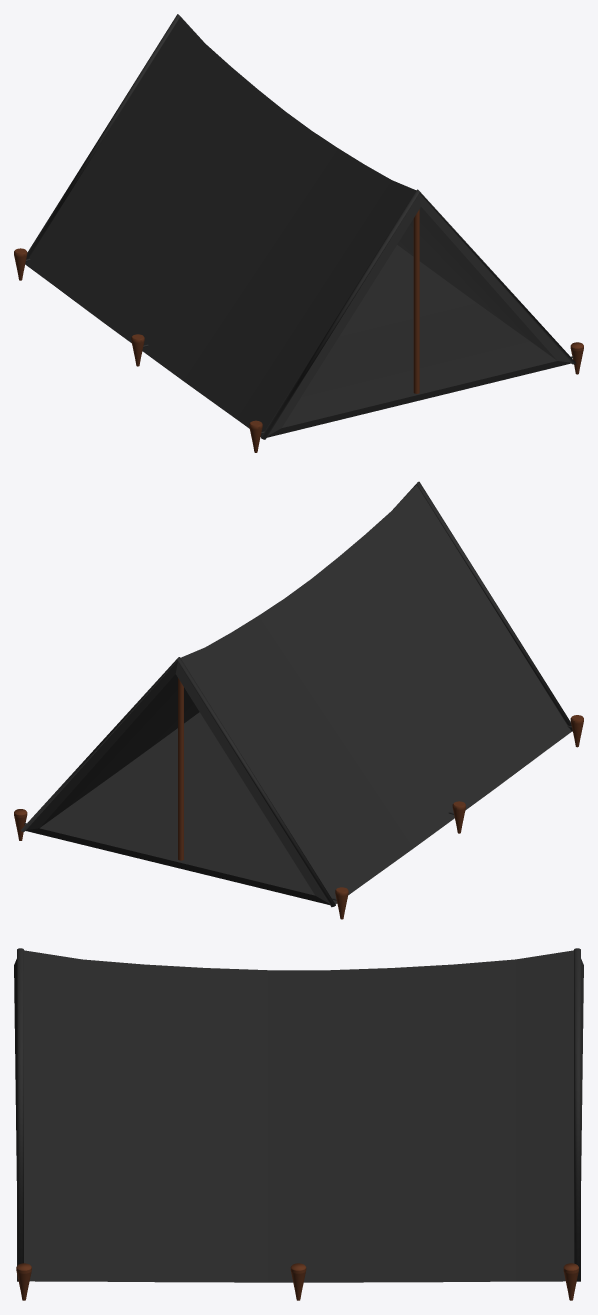
File: cadir.fbx
The picture shows the model from 3 angles, top to bottom: view 1: azimuth 30°, elevation 25°; view 2: azimuth 150°, elevation 25°; view 3: azimuth 270°, elevation 25°; orthographic projection. The views are drawn at different scales.
Parts seen in each view (by area): view 1: Cube, Cube.001, Cylinder.001, Cylinder.013; view 2: Cube, Cube.001, Cylinder.001, Cylinder.013; view 3: Cube, Cube.001, Cylinder.010.
Boxes of the visible parts, <box> form: Cube: <box>25,17,570,437</box>; Cube.001: <box>25,14,575,439</box>; Cylinder.001: <box>413,209,419,393</box>; Cylinder.013: <box>14,248,264,452</box>; Cube: <box>26,485,571,904</box>; Cube.001: <box>21,481,572,907</box>; Cylinder.001: <box>178,678,183,860</box>; Cylinder.013: <box>332,715,583,919</box>; Cube: <box>14,950,583,1282</box>; Cube.001: <box>17,948,580,1281</box>; Cylinder.010: <box>16,1263,578,1300</box>.
Bounding box in the file's own units: 335 × 216 × 428.
